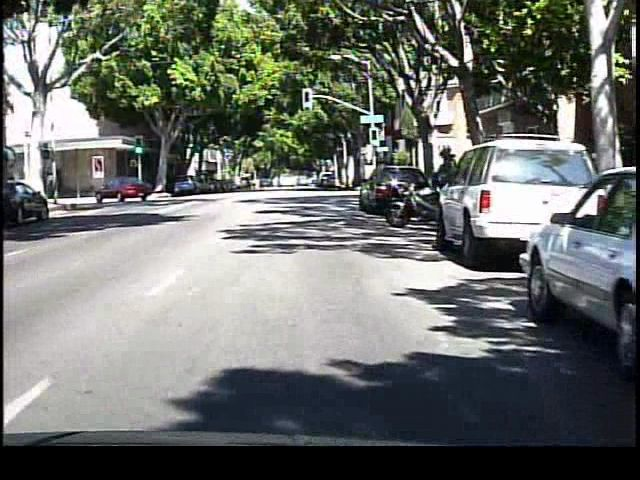person: (435, 135, 470, 236)
